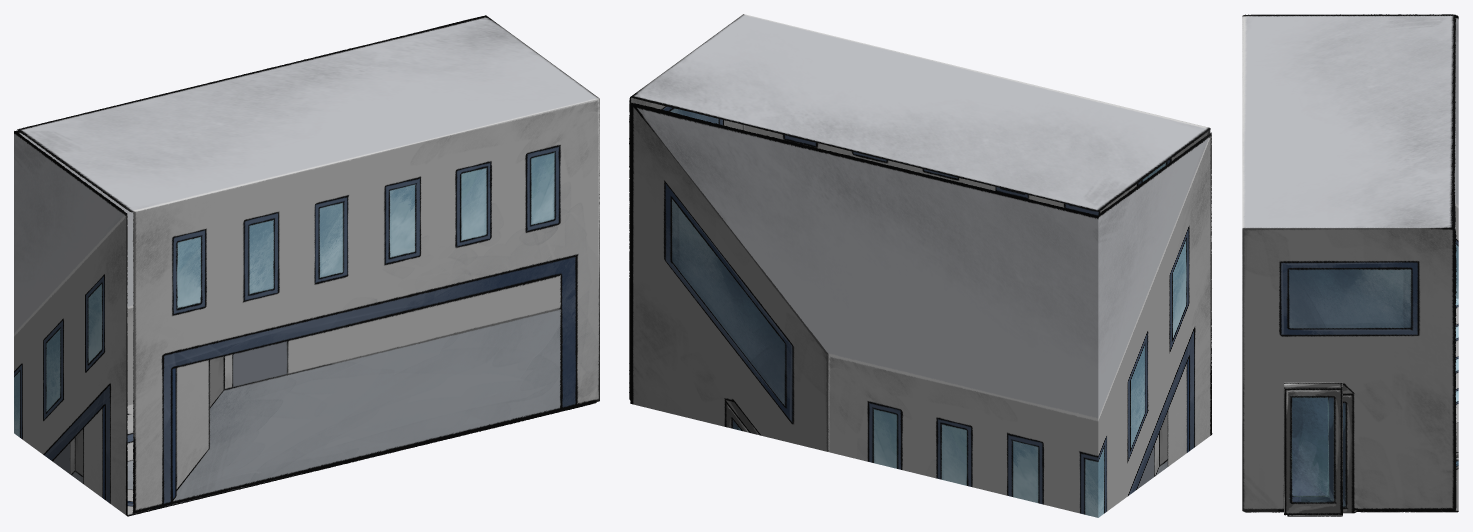
3 views of the same model, side by side, from view 1: azimuth 30°, elevation 25°; view 2: azimuth 150°, elevation 25°; view 3: azimuth 270°, elevation 25° (orthographic). The views are drawn at different scales.
Visible parts, largest first — view 1: 立方体; view 2: 立方体; view 3: 立方体.
Boxes of the visible parts, <box> form: 立方体: <box>14,15,599,516</box>; 立方体: <box>629,14,1212,517</box>; 立方体: <box>1242,14,1458,516</box>.
Bounding box in the file's own units: 2812 × 1702 × 1171.
1 material, 1 textured.
